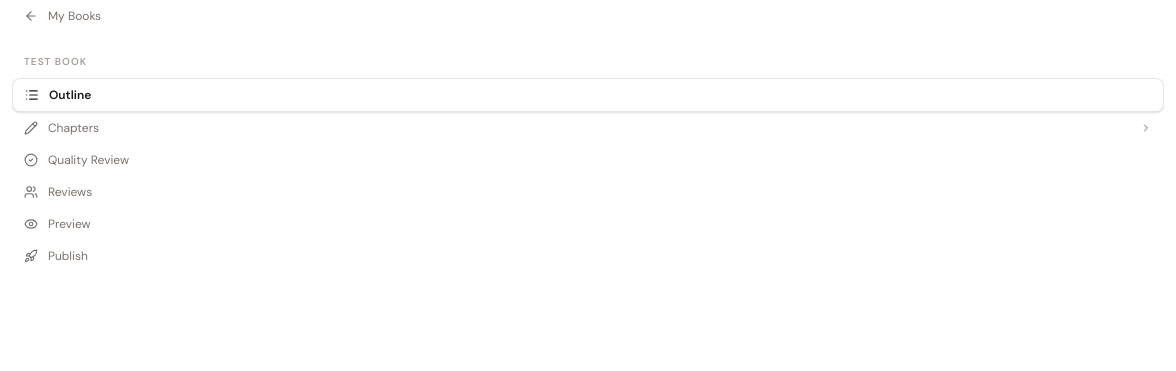
Test: SidebarNavBook › shows chapter list when expanded
The width and height of the screenshot is (1176, 371).
# Click to expand
Click the button "Chapters".
click(74, 128)  # box [12,112,1164,144]
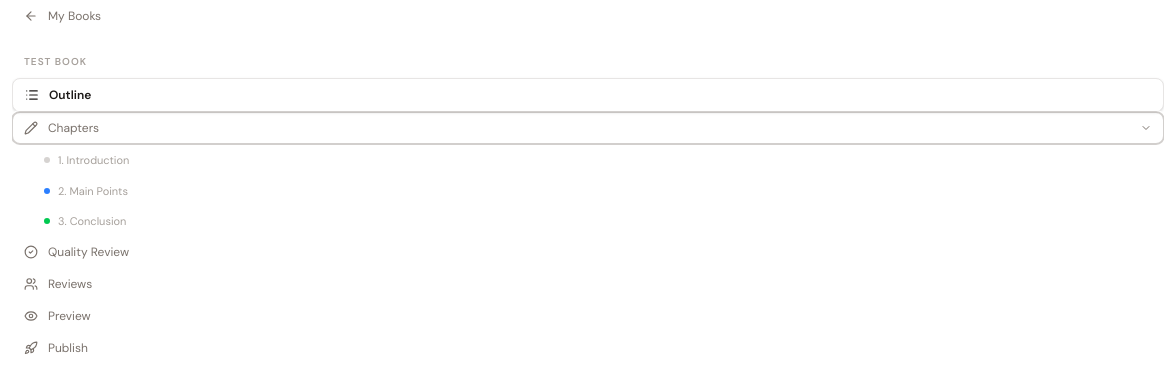
Result: the text "1. Introduction" is shown at [58,152,129,168]
Result: the text "2. Main Points" is shown at [58,182,128,199]
Result: the text "3. Conclusion" is shown at [58,213,126,230]
